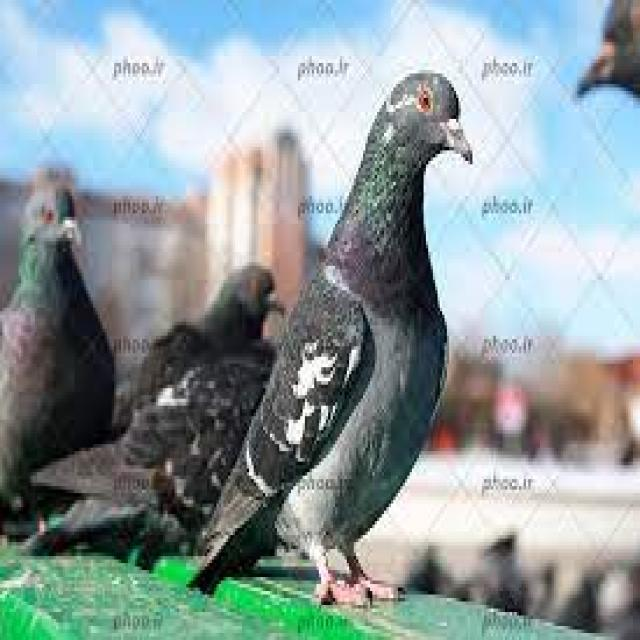bird: (194, 62, 479, 617), (0, 174, 124, 521), (117, 219, 300, 413)
